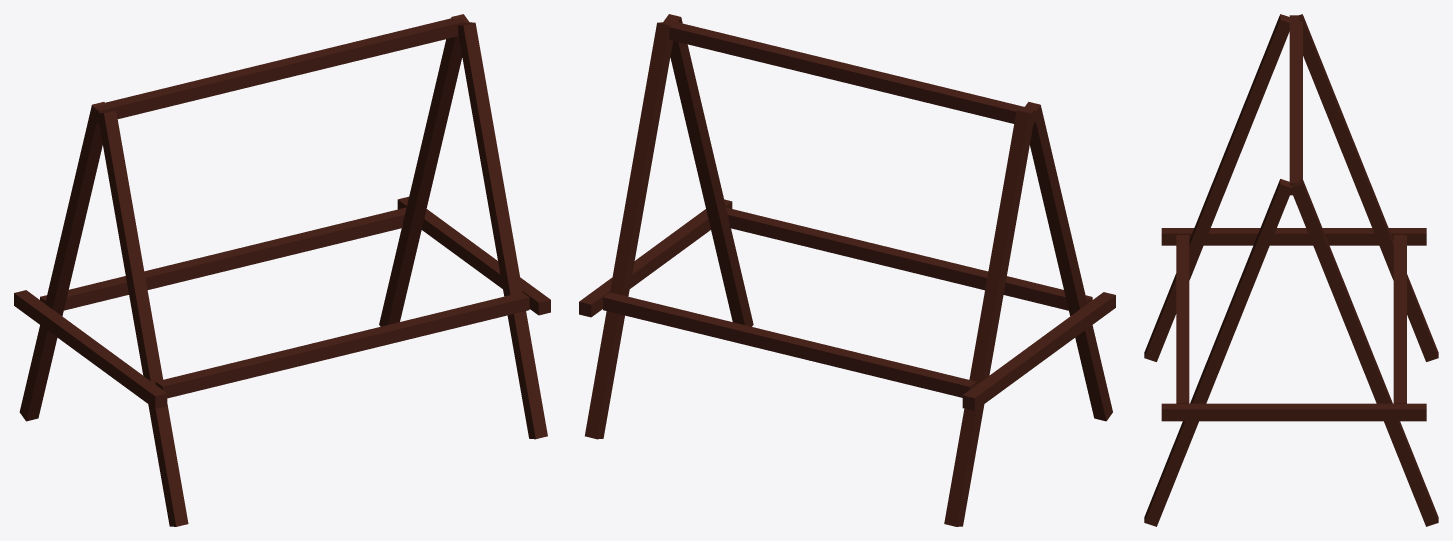
File: Weapon Rack 001.FBX
3 renders of one model, left to right at view 1: azimuth 30°, elevation 25°; view 2: azimuth 150°, elevation 25°; view 3: azimuth 270°, elevation 25°, orthographic. The views are drawn at different scales.
Parts seen in each view (by area): view 1: WeaponRack 005, WeaponRack 003, WeaponRack 008, WeaponRack 007, WeaponRack 009, WeaponRack 001, WeaponRack 004, WeaponRack 006, WeaponRack 002; view 2: WeaponRack 001, WeaponRack 004, WeaponRack 009, WeaponRack 007, WeaponRack 008, WeaponRack 005, WeaponRack 003, WeaponRack 006, WeaponRack 002; view 3: WeaponRack 005, WeaponRack 001, WeaponRack 003, WeaponRack 002, WeaponRack 004, WeaponRack 006, WeaponRack 008, WeaponRack 009, WeaponRack 007.
Boxes of the visible parts, <box> form: WeaponRack 005: <box>458,22,547,439</box>; WeaponRack 003: <box>98,110,188,526</box>; WeaponRack 008: <box>155,292,529,398</box>; WeaponRack 007: <box>94,18,465,123</box>; WeaponRack 009: <box>40,207,406,310</box>; WeaponRack 001: <box>379,14,469,326</box>; WeaponRack 004: <box>19,102,105,421</box>; WeaponRack 006: <box>14,290,167,408</box>; WeaponRack 002: <box>397,196,550,315</box>; WeaponRack 001: <box>585,22,672,439</box>; WeaponRack 004: <box>944,110,1035,526</box>; WeaponRack 009: <box>603,292,976,397</box>; WeaponRack 007: <box>664,20,1035,123</box>; WeaponRack 008: <box>726,207,1092,310</box>; WeaponRack 005: <box>663,14,753,326</box>; WeaponRack 003: <box>1025,101,1112,421</box>; WeaponRack 006: <box>962,292,1115,410</box>; WeaponRack 002: <box>579,199,732,317</box>; WeaponRack 005: <box>1144,179,1292,526</box>; WeaponRack 001: <box>1290,179,1438,526</box>; WeaponRack 003: <box>1144,14,1289,361</box>; WeaponRack 002: <box>1161,403,1426,421</box>; WeaponRack 004: <box>1299,14,1438,361</box>; WeaponRack 006: <box>1161,228,1426,245</box>; WeaponRack 008: <box>1176,235,1189,403</box>; WeaponRack 009: <box>1393,235,1406,403</box>; WeaponRack 007: <box>1289,15,1302,195</box>.
Bounding box in the file's own units: 1.62 × 1.43 × 1.11.
